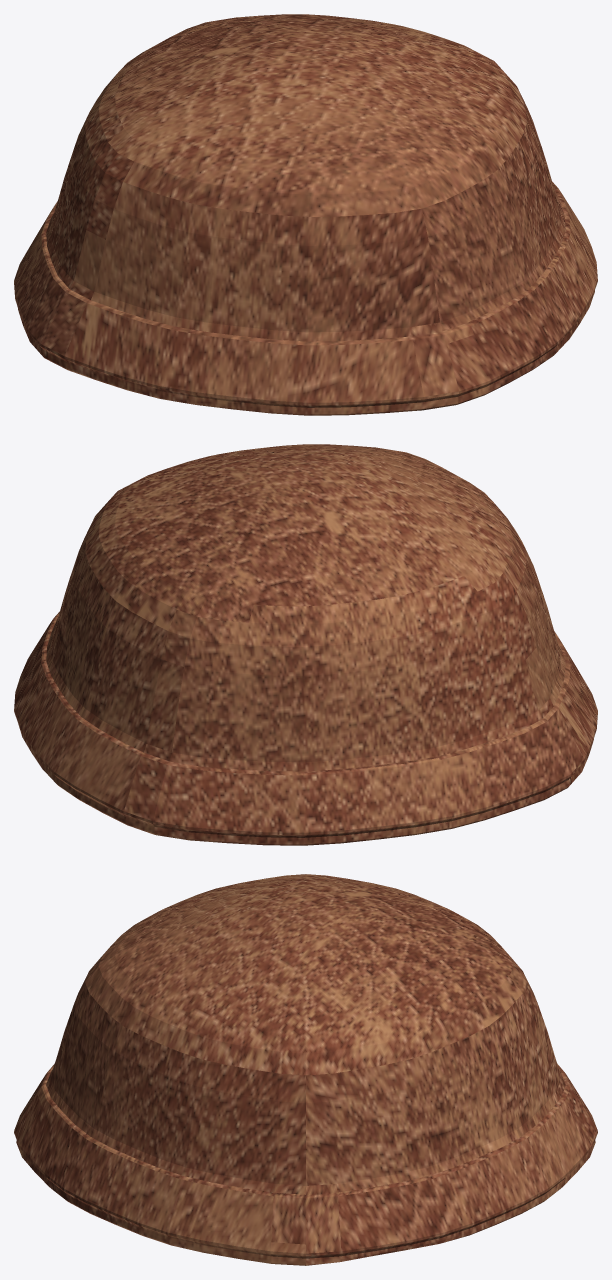
The model's file is Hat 01 .fbx.
The picture shows the model from 3 angles, top to bottom: view 1: azimuth 30°, elevation 25°; view 2: azimuth 150°, elevation 25°; view 3: azimuth 270°, elevation 25°; orthographic projection. The views are drawn at different scales.
Parts seen in each view (by area): view 1: Hat; view 2: Hat; view 3: Hat.
Boxes of the visible parts, x1,y1,x2,y2 form: Hat: [14, 14, 597, 415]; Hat: [14, 444, 597, 845]; Hat: [14, 874, 597, 1265].
Size of the model in its own units: 30.48 by 13.6 by 30.48.
Materials: 1 (1 with a texture image).
